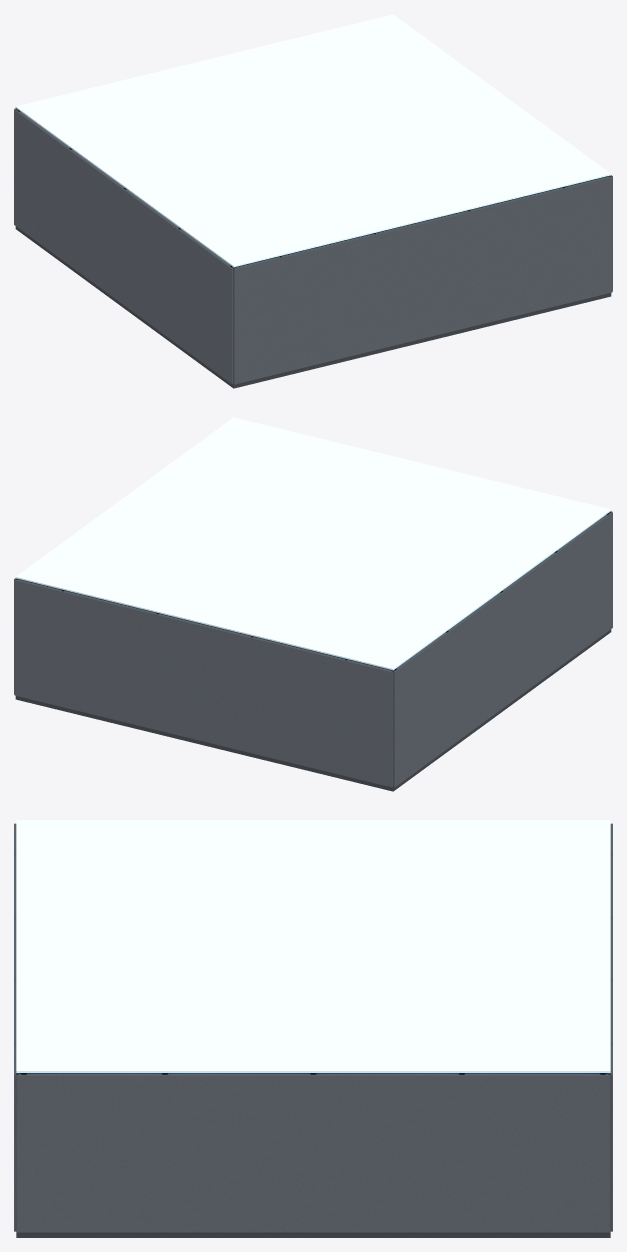
The model's file is training_hub.glb.
3 views of the same model, one above another, from view 1: azimuth 30°, elevation 25°; view 2: azimuth 150°, elevation 25°; view 3: azimuth 270°, elevation 25° (orthographic). The views are drawn at different scales.
Parts seen in each view (by area): view 1: Architecture_Skylight, Architecture_Warm_plaster, Architecture_Warm_concrete; view 2: Architecture_Skylight, Architecture_Warm_plaster, Architecture_Warm_concrete; view 3: Architecture_Skylight, Architecture_Warm_plaster, Architecture_Warm_concrete, Architecture_Oak.
Boxes of the visible parts, left/top/right/bottom form: Architecture_Skylight: left=15, top=14, right=611, bottom=267; Architecture_Warm_plaster: left=14, top=108, right=612, bottom=384; Architecture_Warm_concrete: left=15, top=226, right=611, bottom=388; Architecture_Skylight: left=15, top=417, right=611, bottom=670; Architecture_Warm_plaster: left=14, top=511, right=612, bottom=787; Architecture_Warm_concrete: left=15, top=629, right=611, bottom=791; Architecture_Skylight: left=16, top=820, right=610, bottom=1072; Architecture_Warm_plaster: left=14, top=823, right=612, bottom=1232; Architecture_Warm_concrete: left=16, top=1232, right=610, bottom=1237; Architecture_Oak: left=19, top=1073, right=607, bottom=1073.
Size of the model in its own units: 24.2 by 7.44 by 24.2.
Materials: 18 (15 with a texture image).
